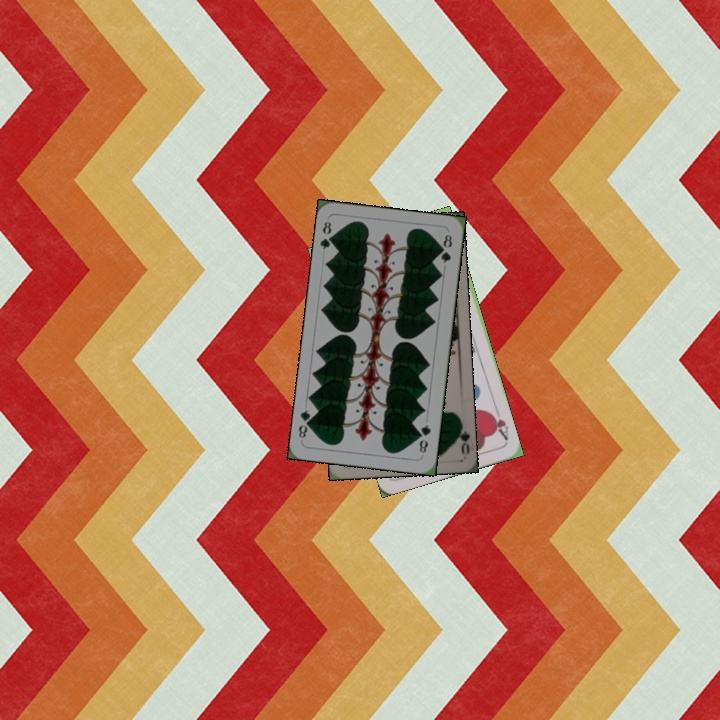G8: (316, 217, 337, 252), (415, 421, 434, 458)
GO: (452, 416, 472, 456)
HA: (486, 404, 511, 443)
